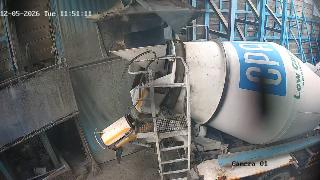cement_mixer_truck: (110, 40, 320, 180)
